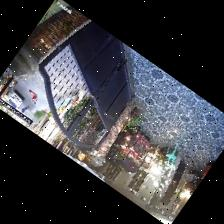person: (29, 90, 37, 103), (22, 106, 29, 112)
